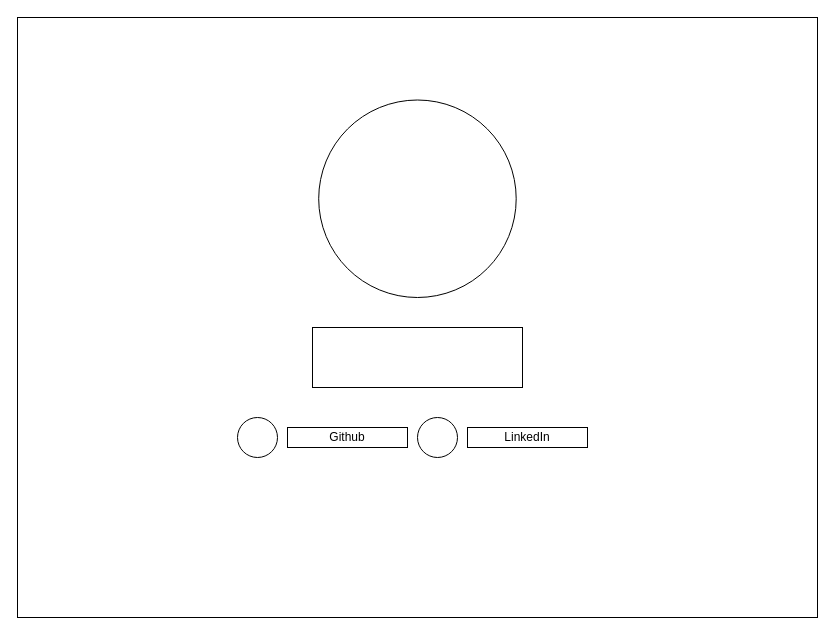
Image size: 835x635. Some labels were removed from this diagram. Each missing label, with the centre of its shape:
"Alex Henderson Aerospace Engineer" goes at (x=417, y=357).
"Picture" goes at (x=417, y=198).
